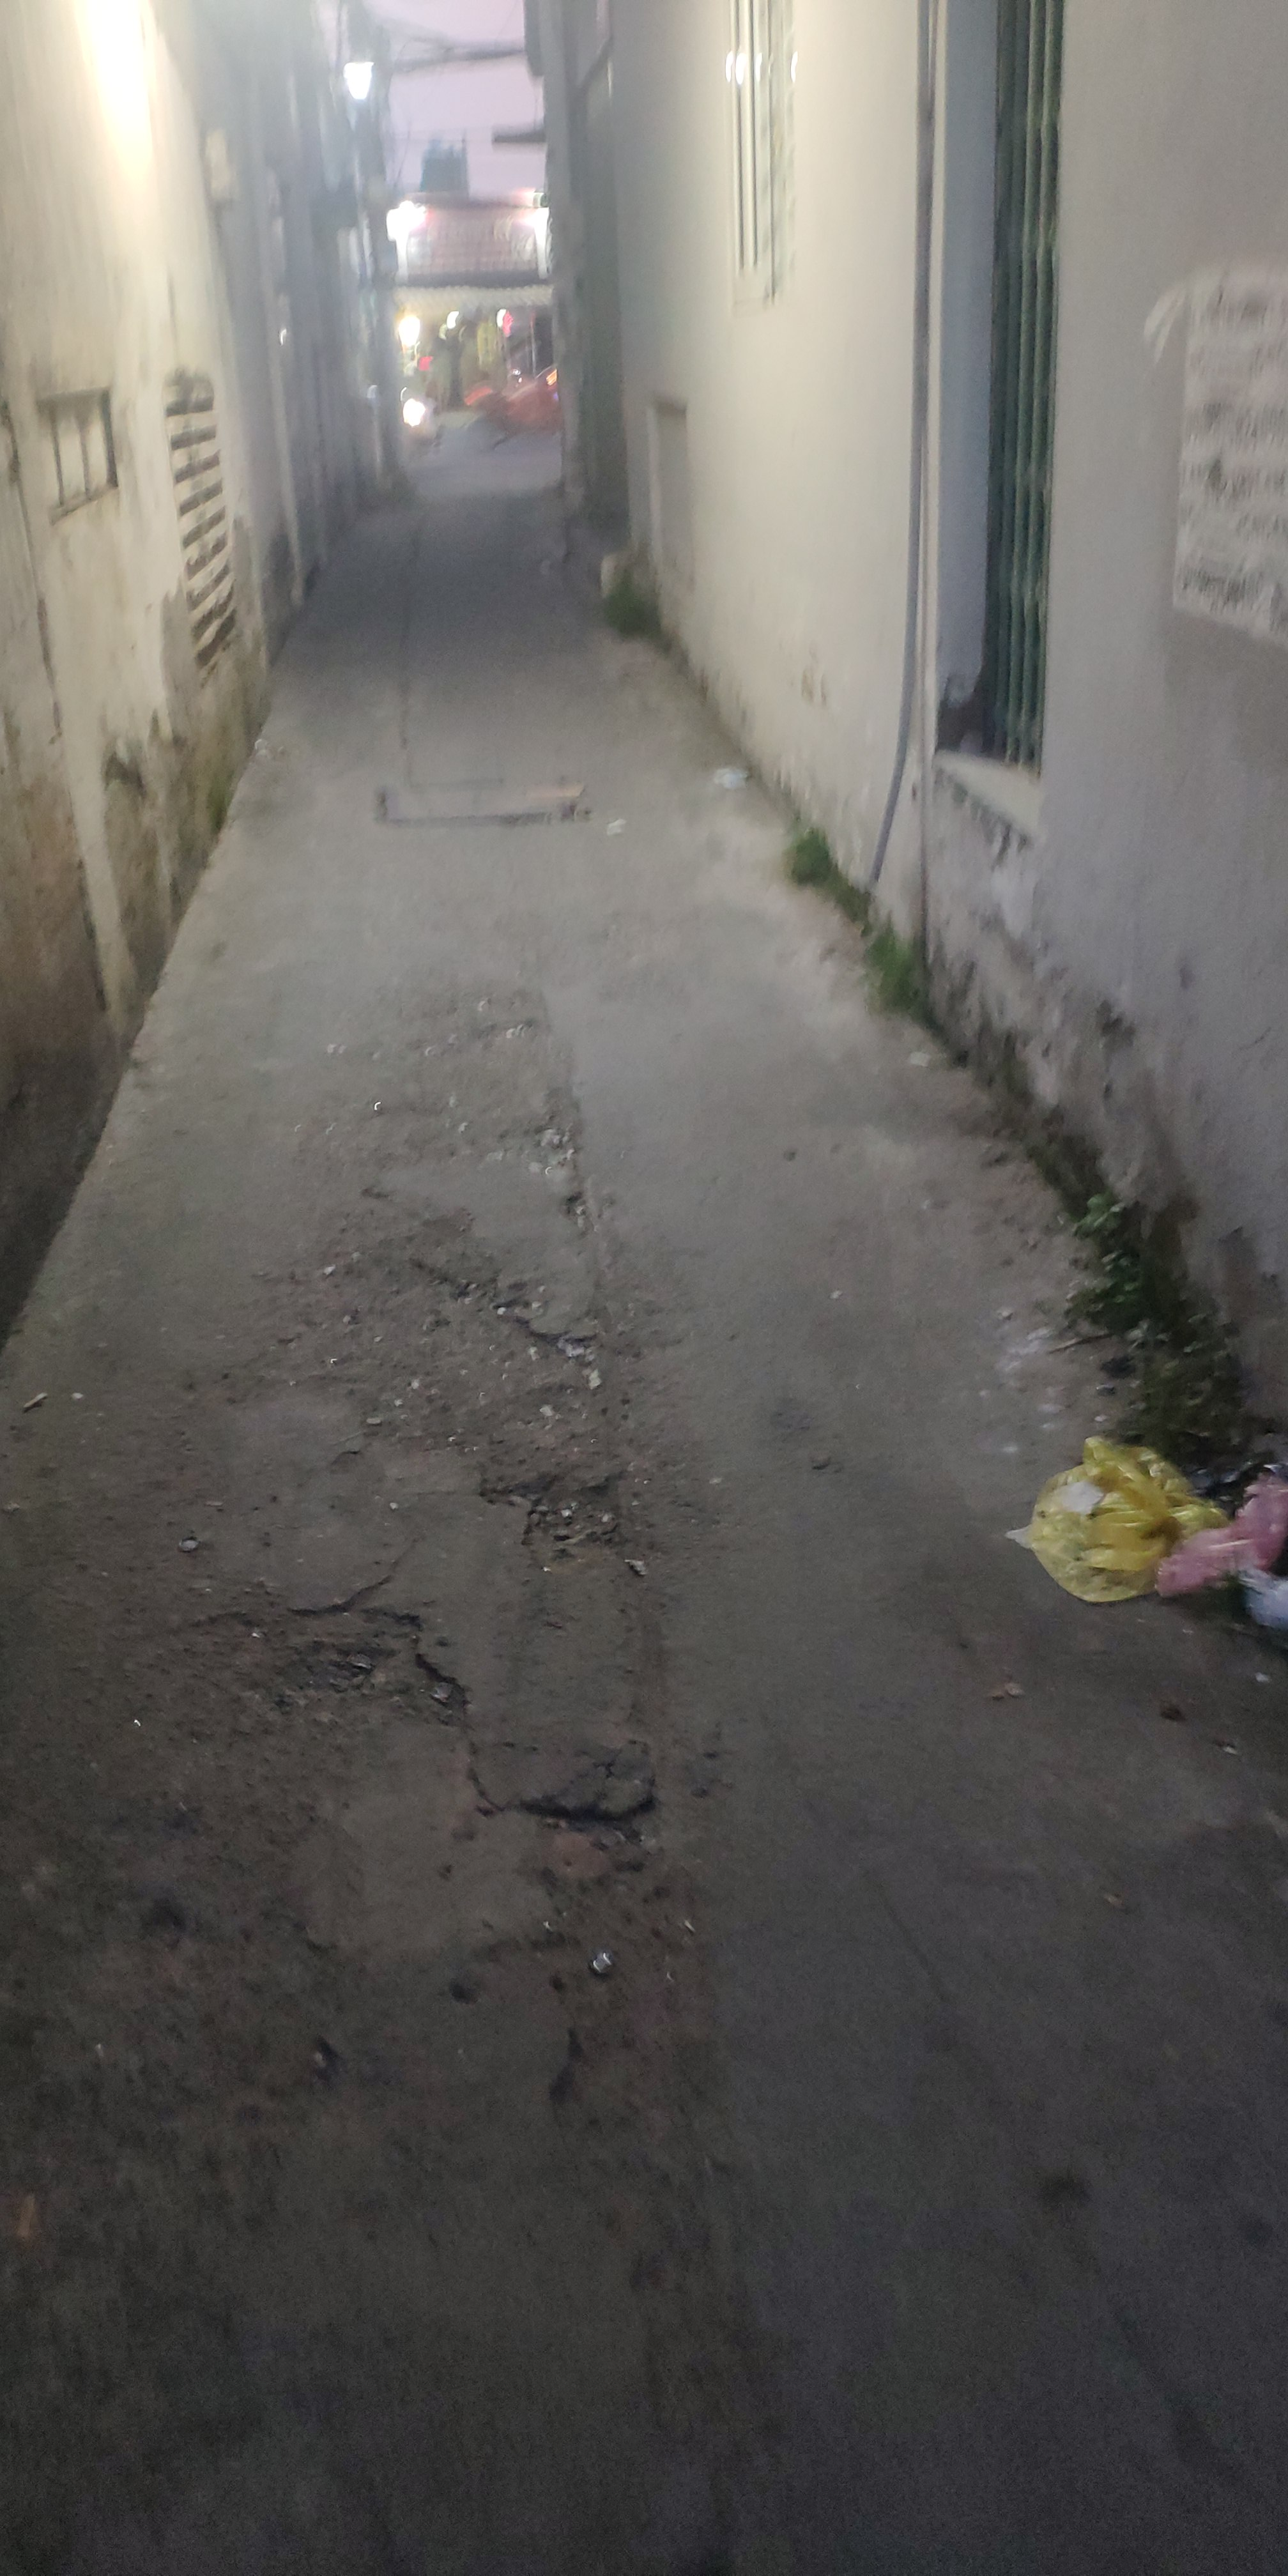hole: (488, 1779, 747, 2469), (314, 1263, 629, 1571), (182, 1597, 452, 1748), (490, 1089, 595, 1176), (549, 1189, 606, 1237)
